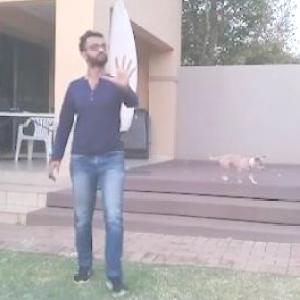follow_hand: (99, 49, 141, 93)
